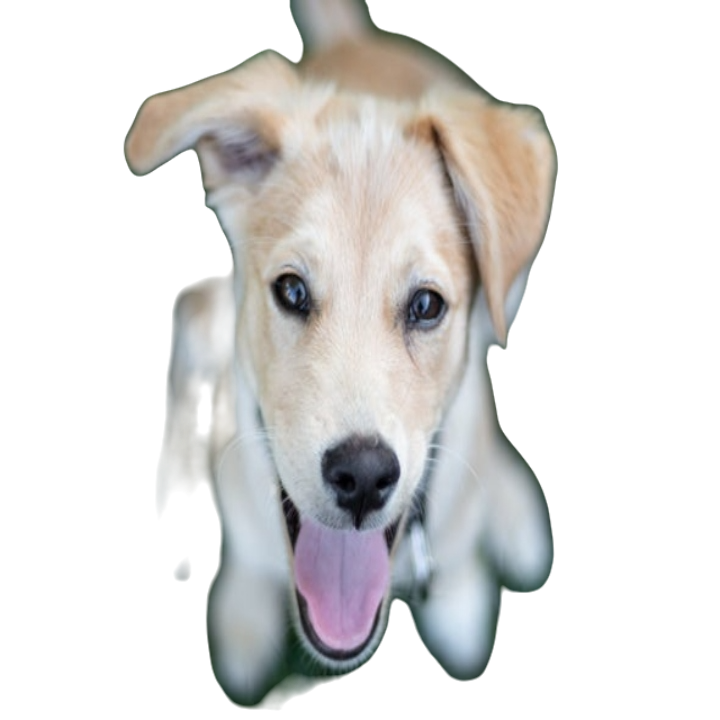Dog: (106, 0, 561, 714)
